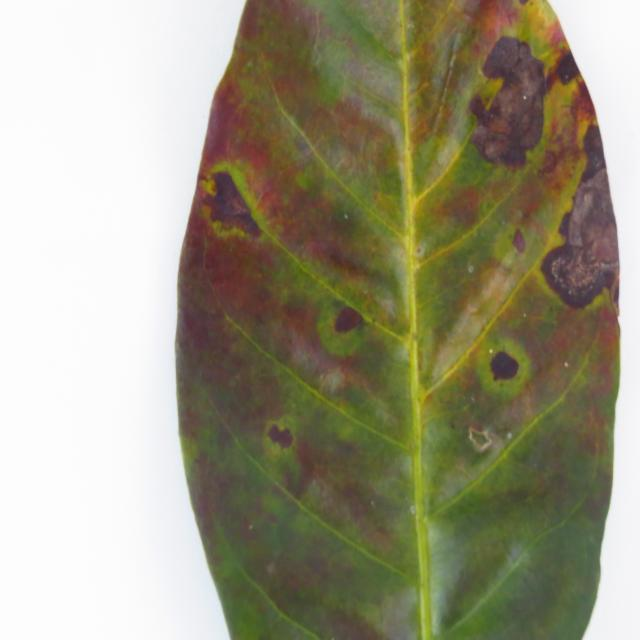DeficienciaNutricional-Fosforo: (176, 2, 619, 638)
